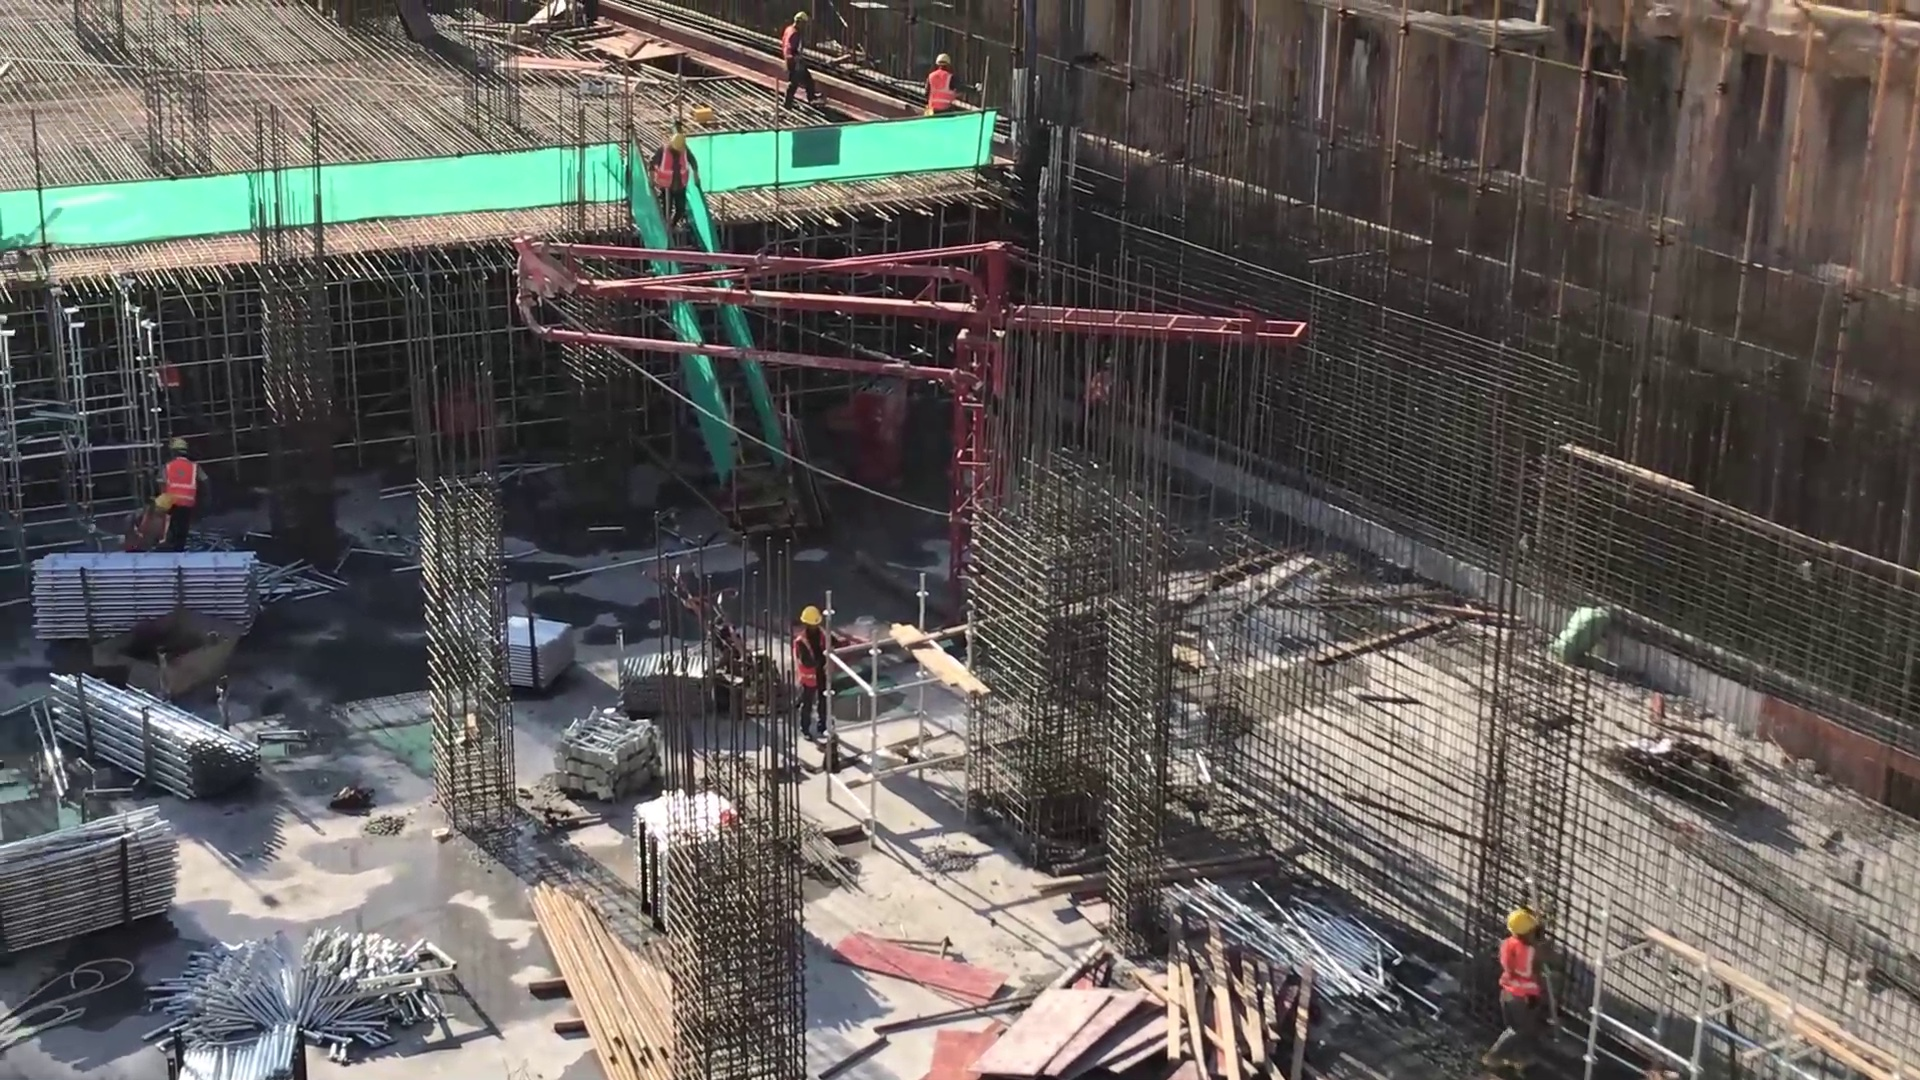helmet: (1507, 908, 1536, 932), (801, 604, 820, 625), (154, 492, 173, 508), (935, 52, 949, 64), (172, 438, 188, 449), (793, 10, 808, 21)
person: (1494, 907, 1543, 1073), (152, 437, 213, 537), (644, 134, 704, 226), (797, 609, 831, 735), (773, 11, 817, 106), (924, 50, 963, 126), (131, 495, 175, 556)
vest: (1500, 936, 1539, 1001), (789, 633, 825, 692), (161, 459, 201, 508), (658, 146, 689, 193), (930, 69, 955, 112), (784, 26, 805, 62)
